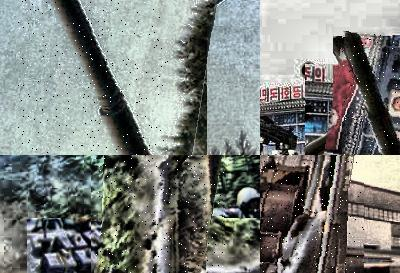tanks: (58, 1, 154, 156), (261, 156, 356, 273), (153, 156, 225, 273), (344, 33, 400, 156), (261, 118, 315, 156)
